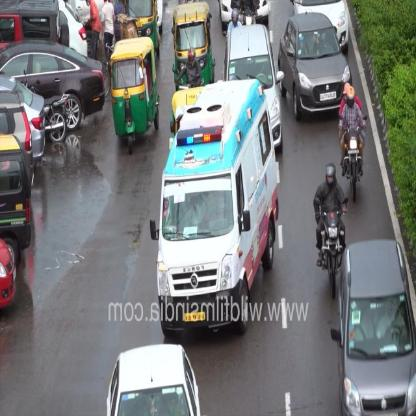auto-rikshaw: (108, 36, 160, 154), (172, 0, 216, 92)
bike: (316, 200, 349, 300), (340, 112, 368, 202)
car: (330, 238, 416, 414), (2, 39, 107, 133), (277, 10, 353, 122), (223, 22, 285, 154), (106, 342, 202, 414), (1, 74, 47, 166), (292, 0, 350, 56), (218, 0, 270, 36)
priority: (149, 78, 279, 336)
